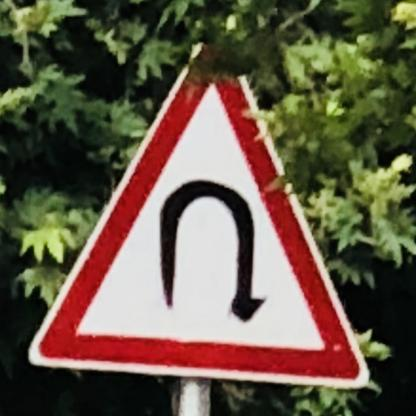U-Turn: (25, 40, 369, 388)
